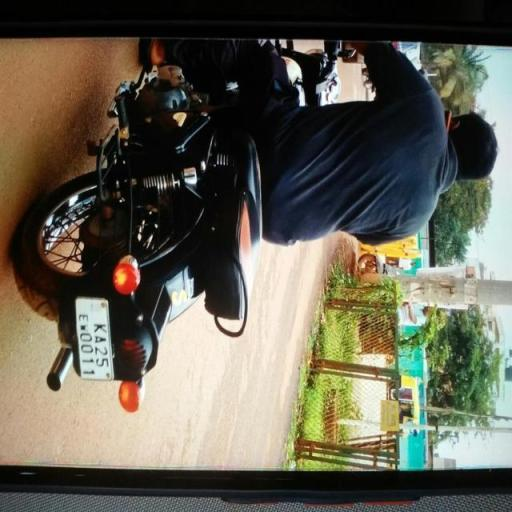using mobile: (442, 98, 460, 136)
